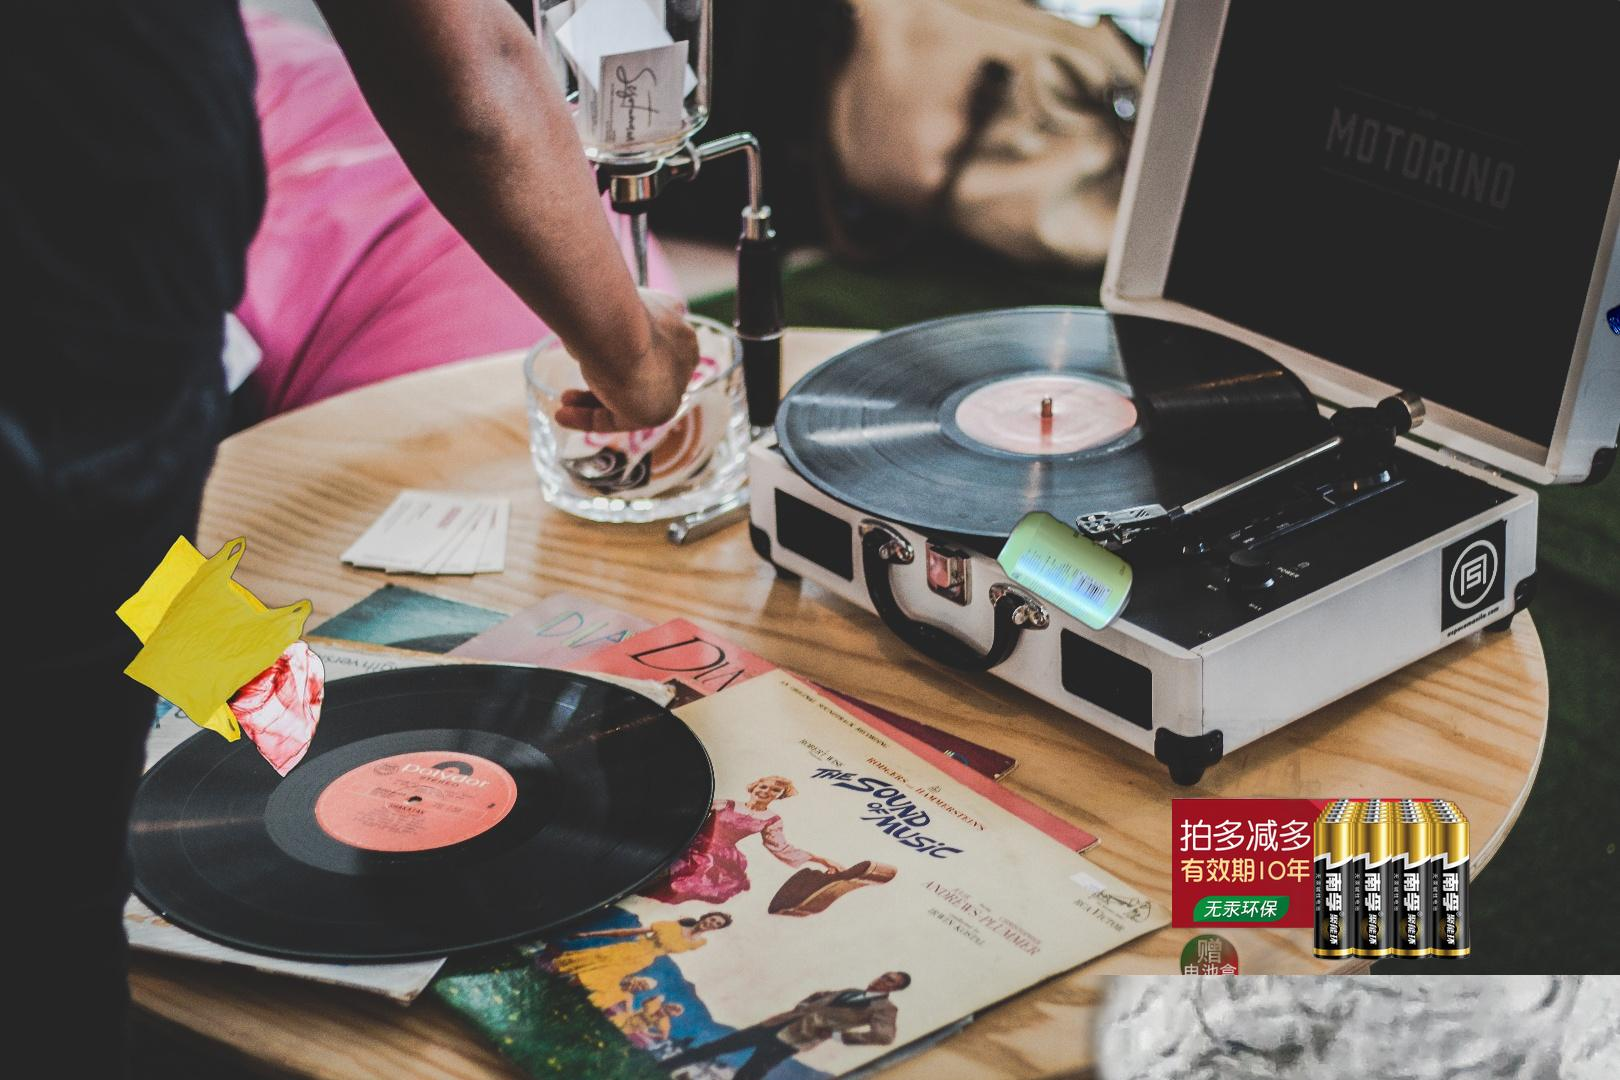battery: (1172, 708, 1472, 1008)
glass: (1602, 180, 1620, 342)
metal-cans: (991, 506, 1137, 636)
plastic-bag: (112, 532, 327, 779)
trashbox-cardboard: (363, 975, 1620, 1080)
